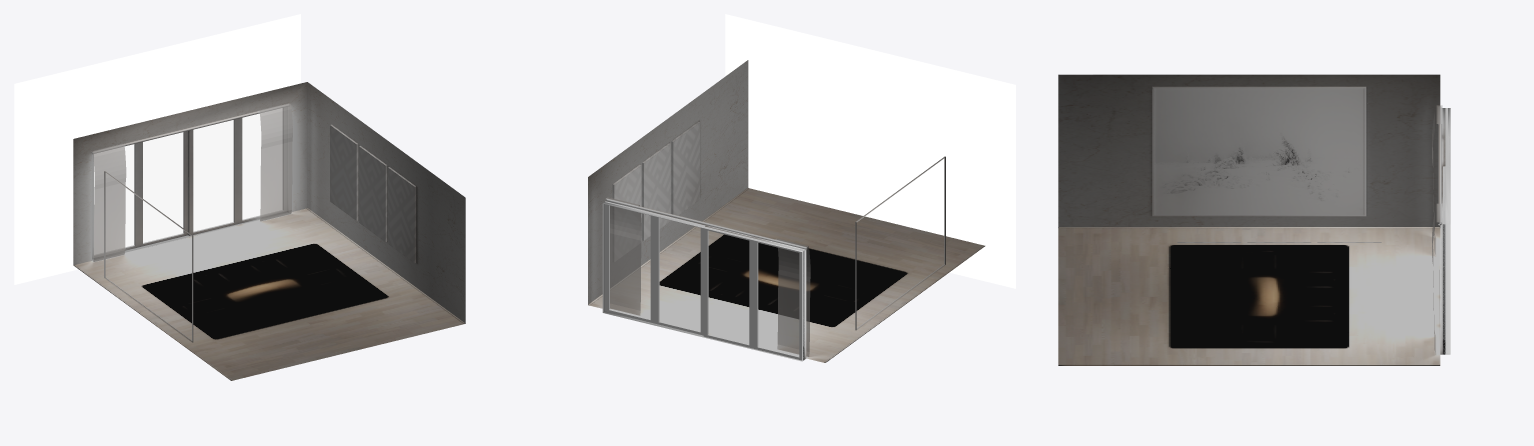
The model's file is floor.glb.
3 renders of one model, left to right at view 1: azimuth 30°, elevation 25°; view 2: azimuth 150°, elevation 25°; view 3: azimuth 270°, elevation 25°, orthographic. The views are drawn at different scales.
Parts seen in each view (by area): view 1: Backdrop_Backdrop_0.001, Modern Dining Room_Floor_0.001, Walls_Walls_0.001, Curtains_Curtains_0.001, Paintings_Paintings_0.001, DoorFrame_DoorFrame_0.001, PictureFrame_PictureFrame_0.001, CurtainPole_CurtainPole_0.001; view 2: Backdrop, Modern Dining Room_Floor_0.001, Walls_Walls_0.001, DoorFrame_DoorFrame_0.001, Paintings_Paintings_0.001, Curtains_Curtains_0.001, PictureFrame_PictureFrame_0.001, CurtainPole_CurtainPole_0.001; view 3: Modern Dining Room_Floor_0.001, Walls_Walls_0.001, Picture_Picture_0.001, DoorFrame_DoorFrame_0.001, PictureFrame_PictureFrame_0.001, Curtains_Curtains_0.001, CurtainPole_CurtainPole_0.001.
Boxes of the visible parts, left/top/right/bottom form: Backdrop_Backdrop_0.001: left=14, top=14, right=300, bottom=284; Modern Dining Room_Floor_0.001: left=73, top=208, right=465, bottom=380; Walls_Walls_0.001: left=73, top=82, right=465, bottom=323; Curtains_Curtains_0.001: left=91, top=103, right=292, bottom=261; Paintings_Paintings_0.001: left=330, top=124, right=416, bottom=263; DoorFrame_DoorFrame_0.001: left=92, top=107, right=288, bottom=260; PictureFrame_PictureFrame_0.001: left=104, top=171, right=193, bottom=342; CurtainPole_CurtainPole_0.001: left=92, top=103, right=289, bottom=154; Backdrop: left=725, top=14, right=1015, bottom=288; Modern Dining Room_Floor_0.001: left=588, top=188, right=984, bottom=362; Walls_Walls_0.001: left=588, top=60, right=748, bottom=304; DoorFrame_DoorFrame_0.001: left=602, top=201, right=806, bottom=361; Paintings_Paintings_0.001: left=612, top=121, right=699, bottom=261; Curtains_Curtains_0.001: left=606, top=197, right=810, bottom=356; PictureFrame_PictureFrame_0.001: left=855, top=156, right=945, bottom=330; CurtainPole_CurtainPole_0.001: left=606, top=198, right=807, bottom=249; Modern Dining Room_Floor_0.001: left=1058, top=227, right=1440, bottom=365; Walls_Walls_0.001: left=1058, top=74, right=1440, bottom=227; Picture_Picture_0.001: left=1154, top=88, right=1364, bottom=215; DoorFrame_DoorFrame_0.001: left=1440, top=108, right=1450, bottom=354; PictureFrame_PictureFrame_0.001: left=1152, top=86, right=1366, bottom=216; Curtains_Curtains_0.001: left=1432, top=105, right=1442, bottom=352; CurtainPole_CurtainPole_0.001: left=1438, top=106, right=1441, bottom=225.
Size of the model in its own units: 7.04 by 4.76 by 8.3.
Materials: 11 (8 with a texture image).
